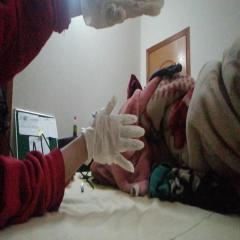gloved: (85, 95, 142, 171), (85, 1, 164, 30)
